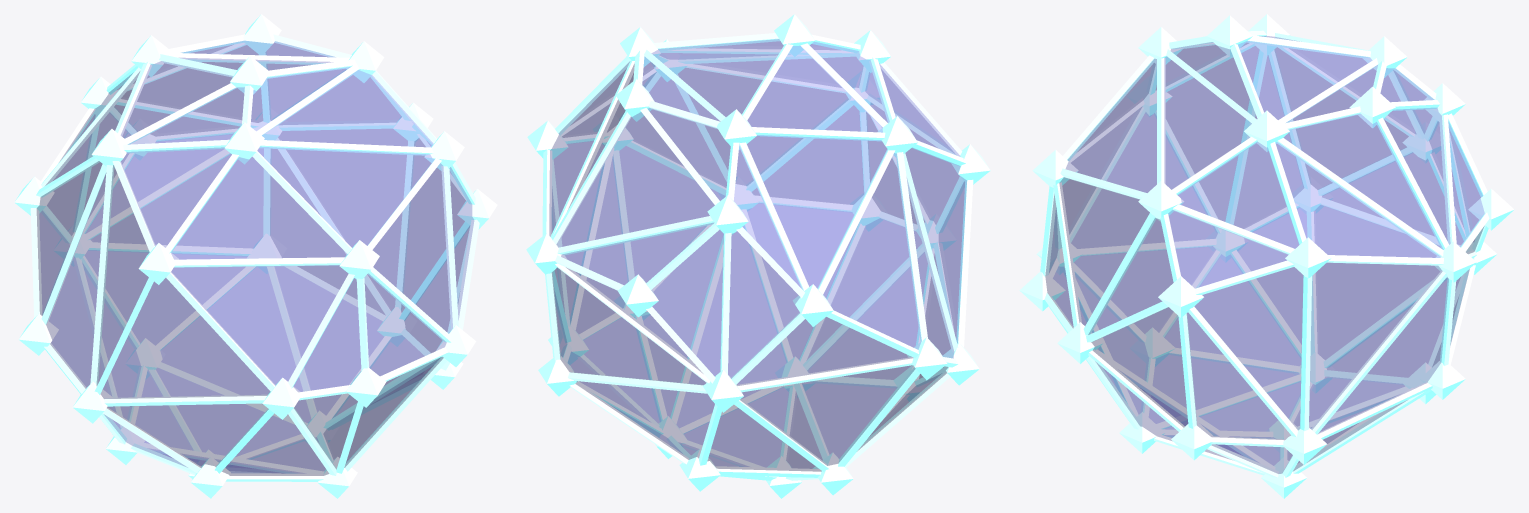
The model's file is lattice shape_transparent.fbx.
The picture shows the model from 3 angles, left to right: view 1: azimuth 30°, elevation 25°; view 2: azimuth 150°, elevation 25°; view 3: azimuth 270°, elevation 25°; orthographic projection. The views are drawn at different scales.
Parts seen in each view (by area): view 1: Sphere001; view 2: Sphere001; view 3: Sphere001.
Part boxes in pixels (x1,y1,x2,y2): Sphere001: (14, 14, 497, 498); Sphere001: (526, 14, 990, 498); Sphere001: (1019, 14, 1514, 498).
Size of the model in its own units: 21.37 by 22.34 by 22.34.
